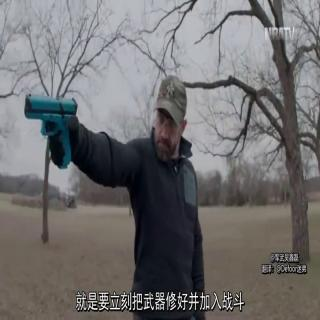gun: (20, 85, 83, 176)
